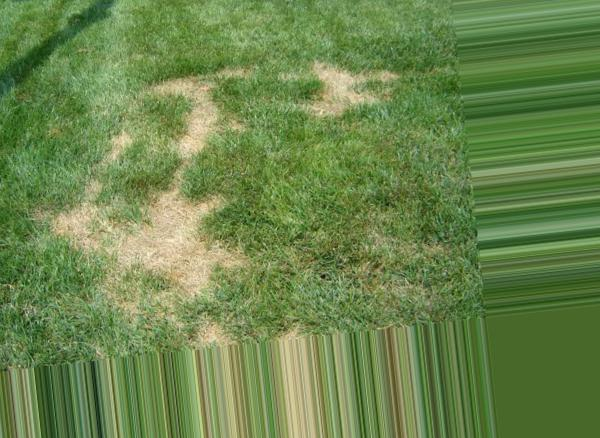patch: (110, 190, 229, 288), (155, 95, 254, 136), (43, 182, 97, 252), (300, 69, 390, 108), (148, 142, 220, 163), (96, 120, 128, 156), (153, 66, 215, 84)
